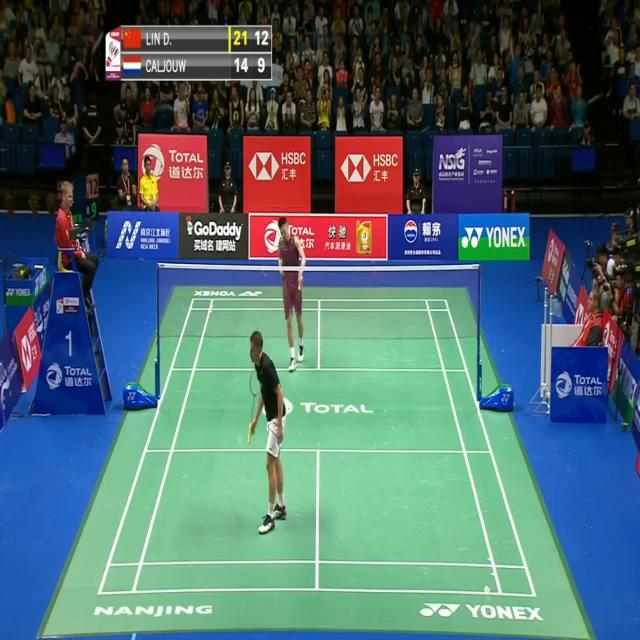Player1: (235, 322, 296, 540)
Player2: (269, 210, 315, 376)
